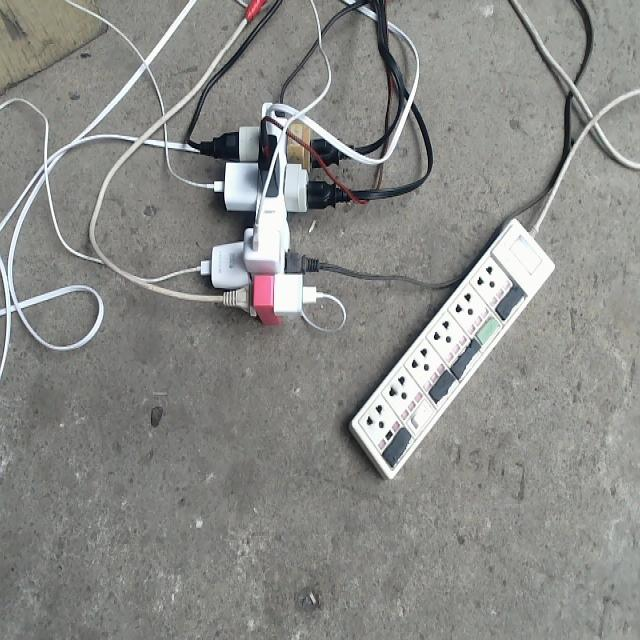-: (197, 96, 349, 328)
